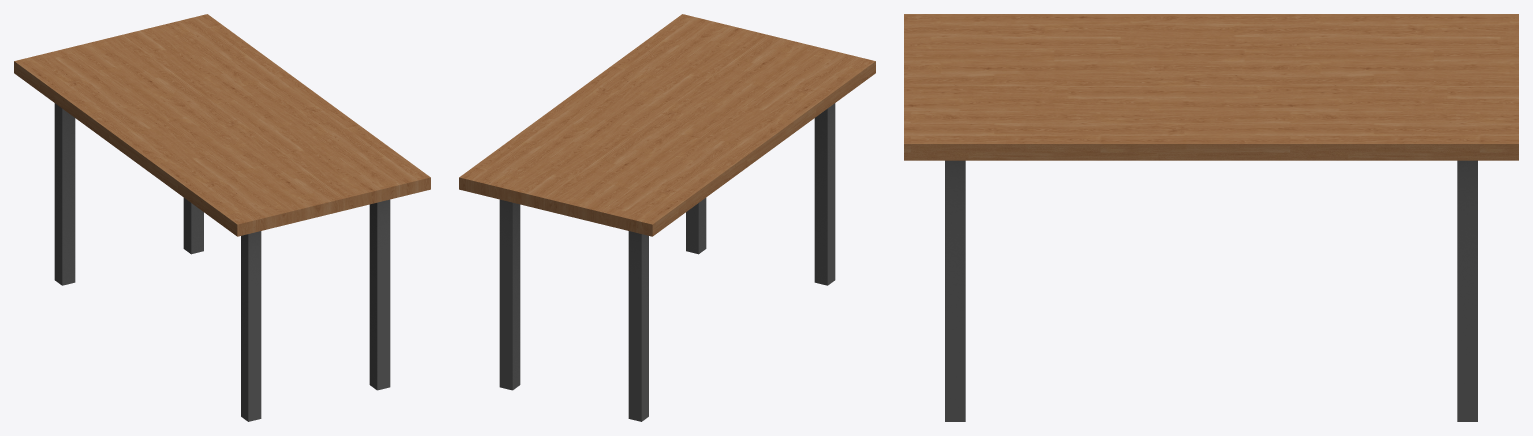
Rendered from desk.dae.
3 views of the same model, side by side, from view 1: azimuth 30°, elevation 25°; view 2: azimuth 150°, elevation 25°; view 3: azimuth 270°, elevation 25° (orthographic). The views are drawn at different scales.
Visible parts, largest first — view 1: Cube; view 2: Cube; view 3: Cube.
Part boxes in pixels (box(x1,y1,x2,y2)): Cube: box(14, 14, 430, 421); Cube: box(459, 14, 875, 421); Cube: box(904, 14, 1518, 421).
Bounding box in the file's own units: 1 × 2 × 1.06.
Materials: 1 (1 with a texture image).
